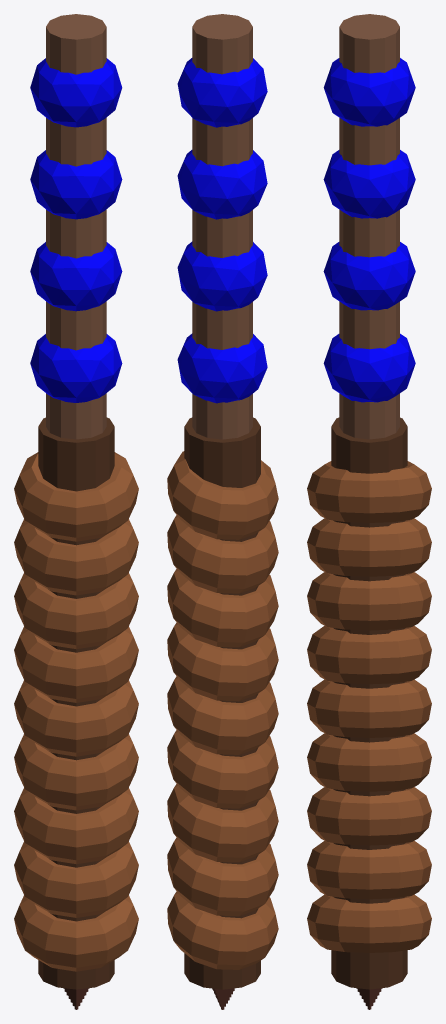
The model's file is Wand 434.glb.
The picture shows the model from 3 angles, left to right: view 1: azimuth 90°, elevation 25°; view 2: azimuth 150°, elevation 25°; view 3: azimuth 270°, elevation 25°; orthographic projection.
Parts seen in each view (by area): view 1: GeneratedWand; view 2: GeneratedWand; view 3: GeneratedWand.
Boxes of the visible parts, x1,y1,x2,y2 form: GeneratedWand: (14,14,138,1009); GeneratedWand: (167,14,278,1009); GeneratedWand: (307,14,431,1009).
Size of the model in its own units: 0.0497 by 0.5042 by 0.0581.
